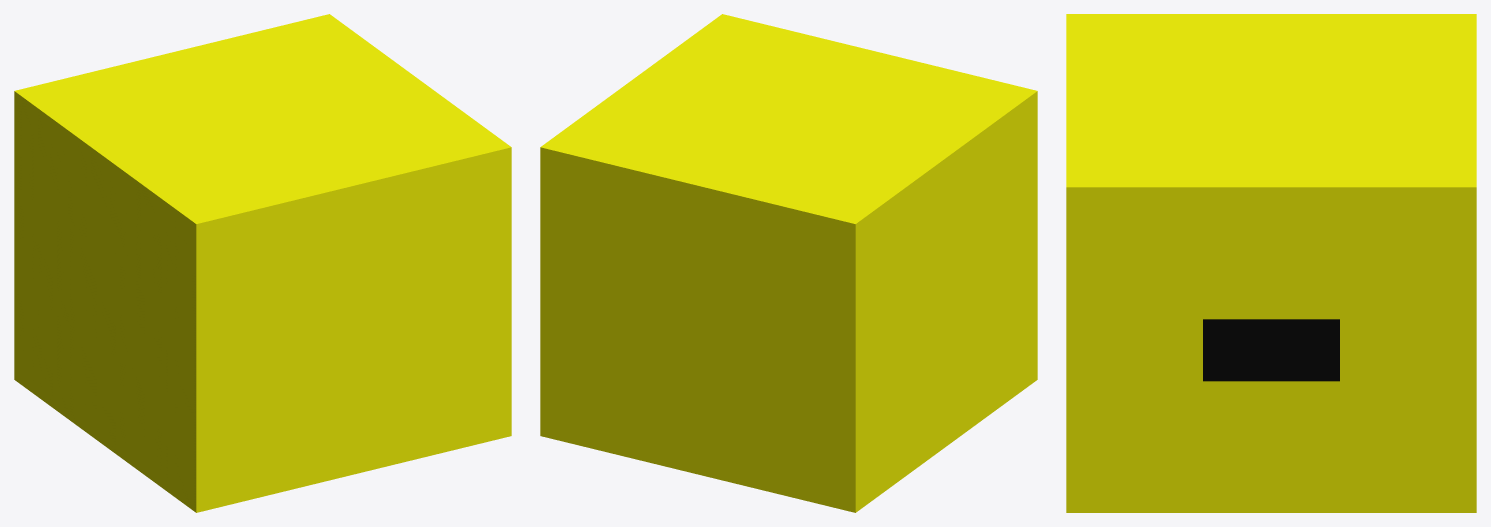
Rendered from spacestation.gltf.
3 views of the same model, side by side, from view 1: azimuth 30°, elevation 25°; view 2: azimuth 150°, elevation 25°; view 3: azimuth 270°, elevation 25° (orthographic). The views are drawn at different scales.
Parts seen in each view (by area): view 1: cuboid; view 2: cuboid; view 3: cuboid.
Part boxes in pixels (<box>): cuboid: <box>14,14,511,512</box>; cuboid: <box>540,14,1037,512</box>; cuboid: <box>1066,14,1476,512</box>.
Size of the model in its own units: 1 by 0.875 by 1.
Materials: 1 (1 with a texture image).
